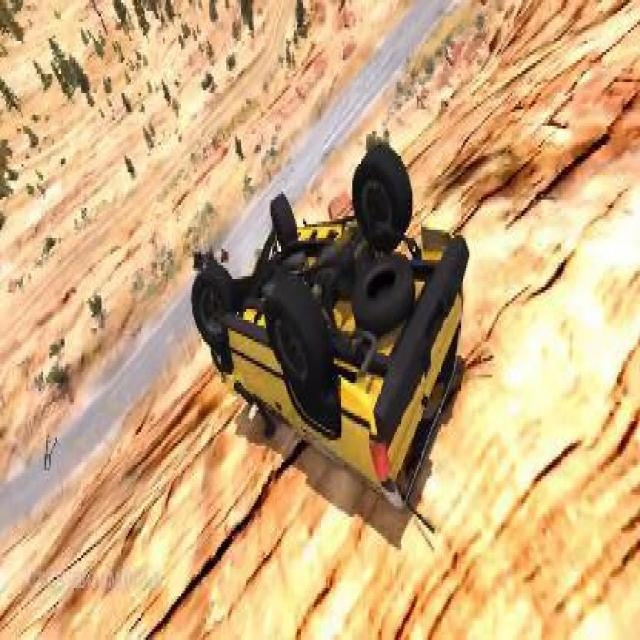accident: (186, 134, 480, 520)
